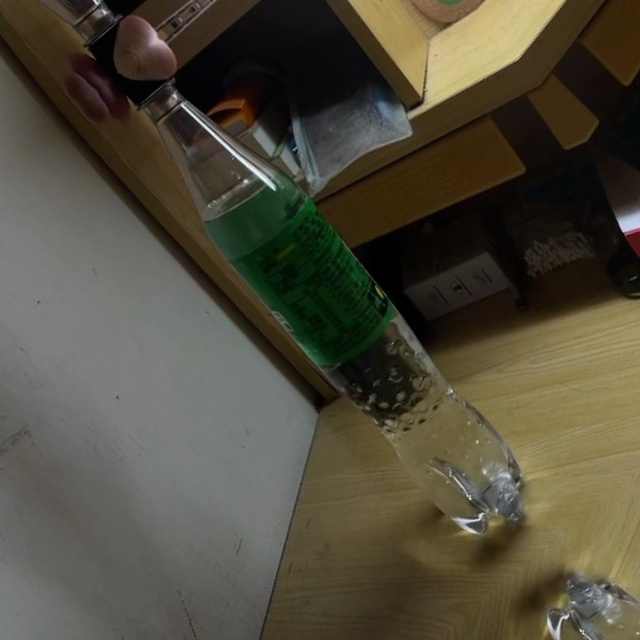Sprite: (88, 29, 558, 560)
